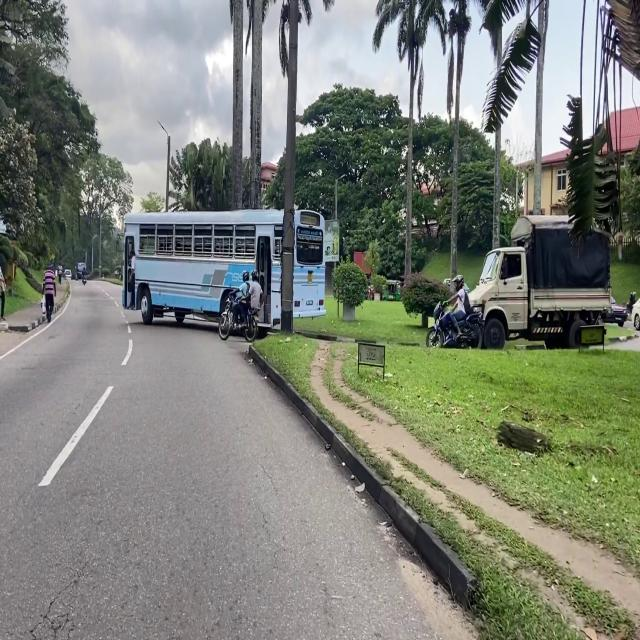bus: (123, 209, 325, 326)
car: (602, 298, 627, 327), (631, 299, 640, 331)
motorcycle: (426, 303, 483, 348), (219, 290, 257, 341), (82, 275, 86, 284)
person: (446, 276, 471, 337), (240, 270, 263, 319), (41, 263, 56, 323), (233, 270, 249, 324), (130, 247, 135, 309), (0, 268, 6, 319), (57, 264, 62, 284), (82, 265, 86, 276)
truck: (470, 216, 610, 348)
van: (76, 262, 84, 279), (64, 268, 71, 281)
